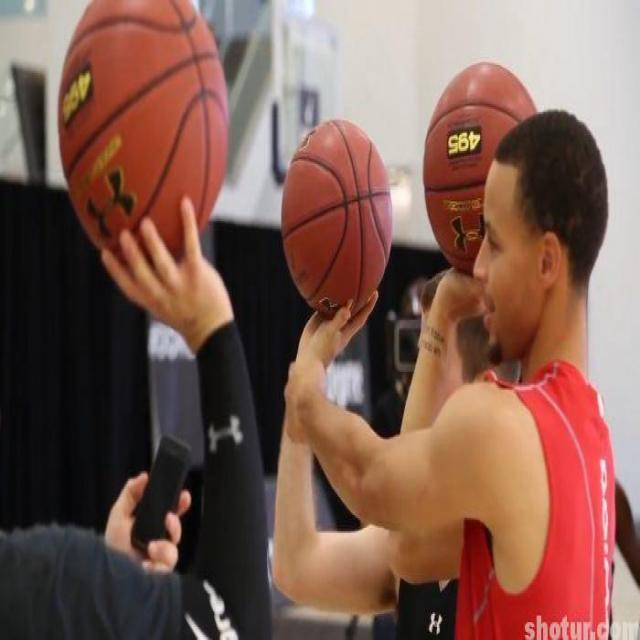Basketball: (58, 0, 228, 267), (423, 60, 539, 277), (282, 120, 392, 317)
